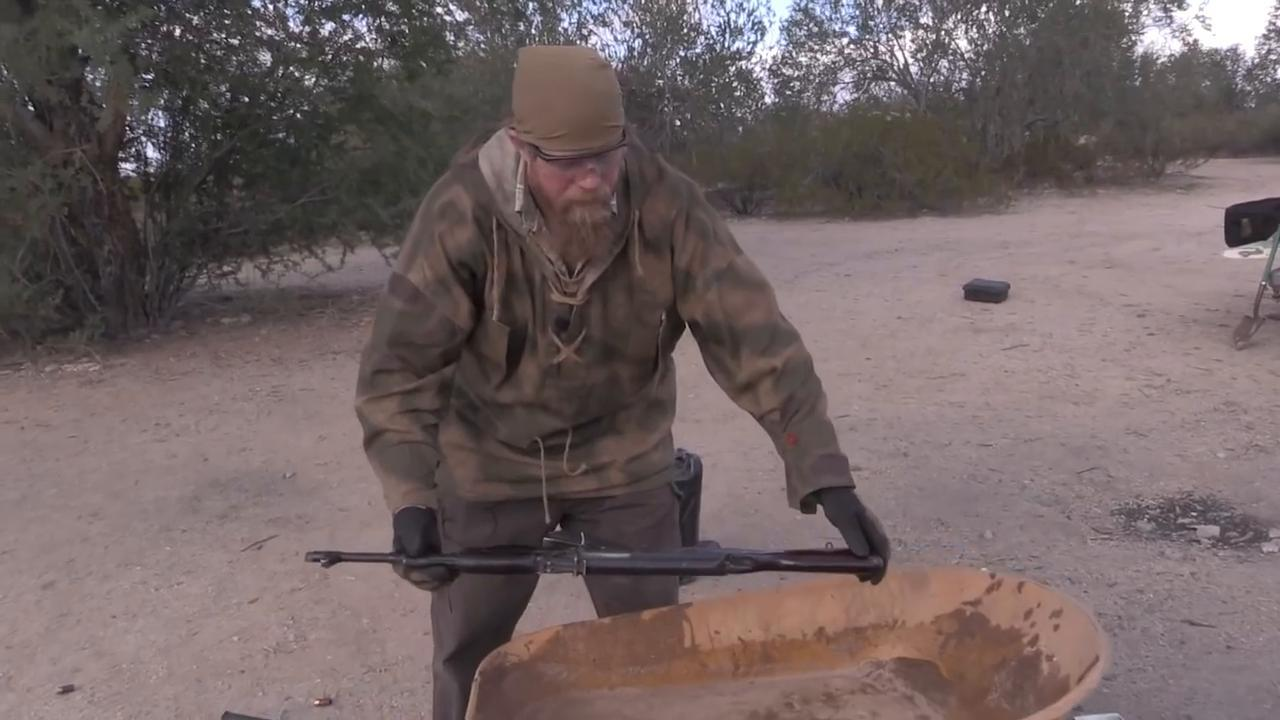AK47 Rifle: (299, 535, 884, 589)
